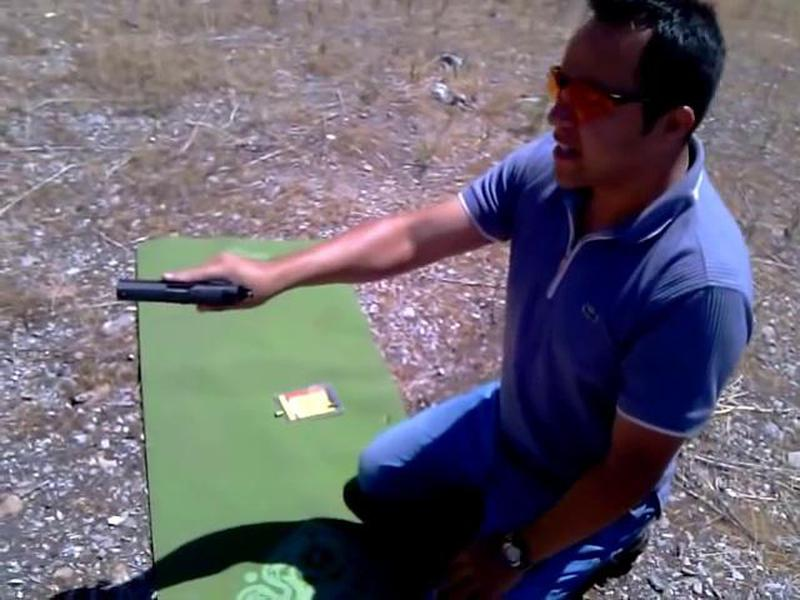Pistola: (101, 244, 266, 334)
